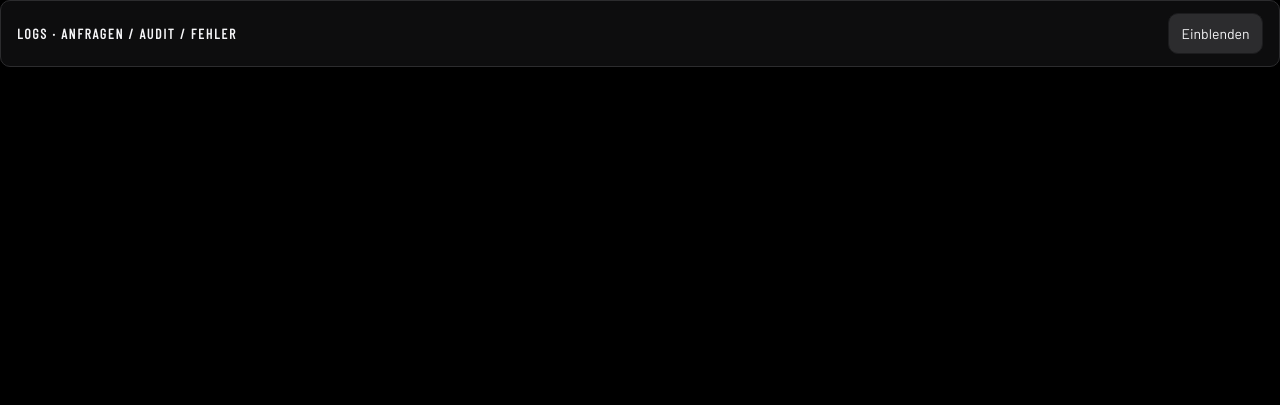
Test: AdminLogsCard › loads and renders logs
Click the button "Einblenden": (1216, 34) [1168,13,1263,54]
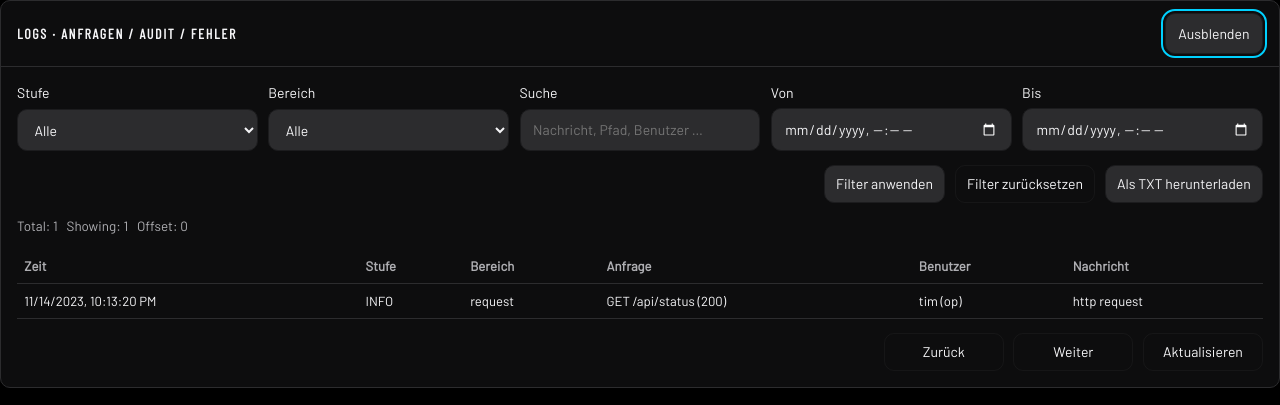
Result: the text "http request" is shown at [1066,284,1263,318]
Result: the cell "request" is shown at [463,284,599,318]
